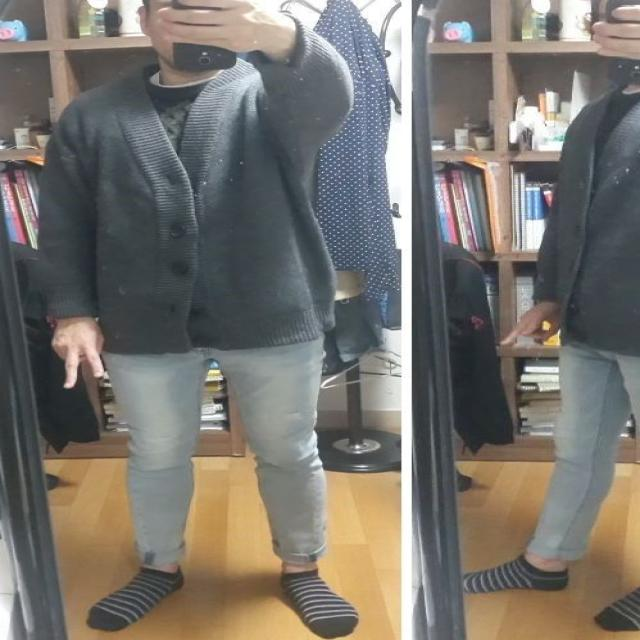cardigan: (37, 13, 355, 355)
denimpants: (100, 340, 323, 566)
